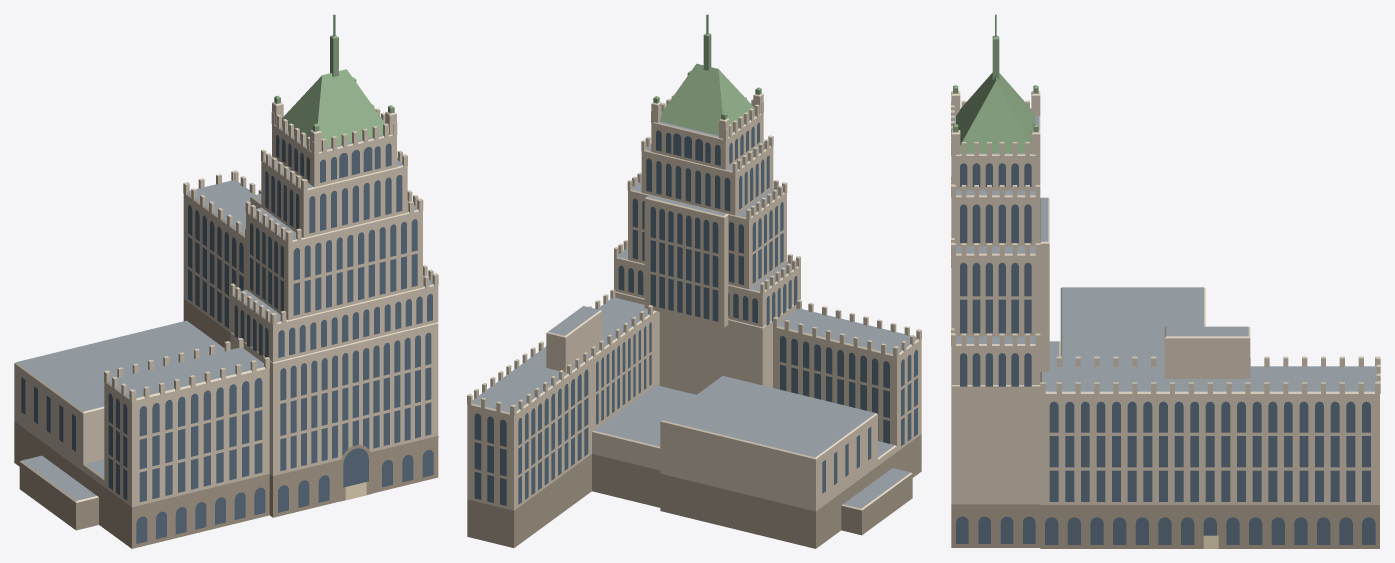
The model's file is det-fisher-building.glb.
The picture shows the model from 3 angles, left to right: view 1: azimuth 30°, elevation 25°; view 2: azimuth 150°, elevation 25°; view 3: azimuth 270°, elevation 25°; orthographic projection. The views are drawn at different scales.
Parts seen in each view (by area): view 1: Fisher Building; view 2: Fisher Building; view 3: Fisher Building.
Boxes of the visible parts, box(x1,y1,x2,y2) form: Fisher Building: box(14, 14, 438, 548); Fisher Building: box(467, 14, 921, 548); Fisher Building: box(951, 14, 1380, 548).
Size of the model in its own units: 107 by 146 by 116.
